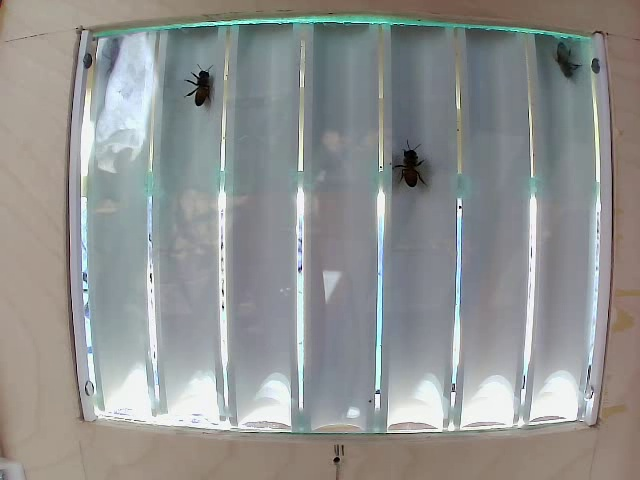bee: (383, 129, 434, 189), (182, 58, 213, 115)
